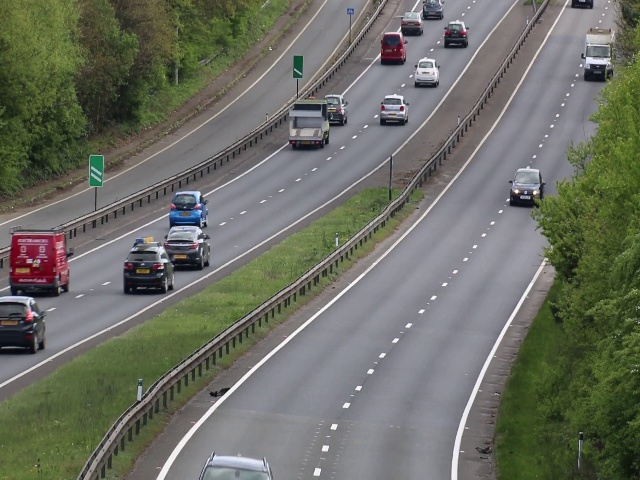car: (9, 233, 70, 296), (123, 241, 175, 295), (1, 295, 44, 352), (289, 99, 330, 149), (197, 454, 275, 480), (582, 26, 617, 83), (163, 226, 210, 268), (167, 191, 210, 228), (508, 166, 545, 207), (380, 30, 407, 66), (380, 93, 410, 125), (415, 55, 440, 88), (323, 94, 349, 125), (443, 19, 469, 49), (400, 12, 424, 37), (422, 1, 445, 19)
